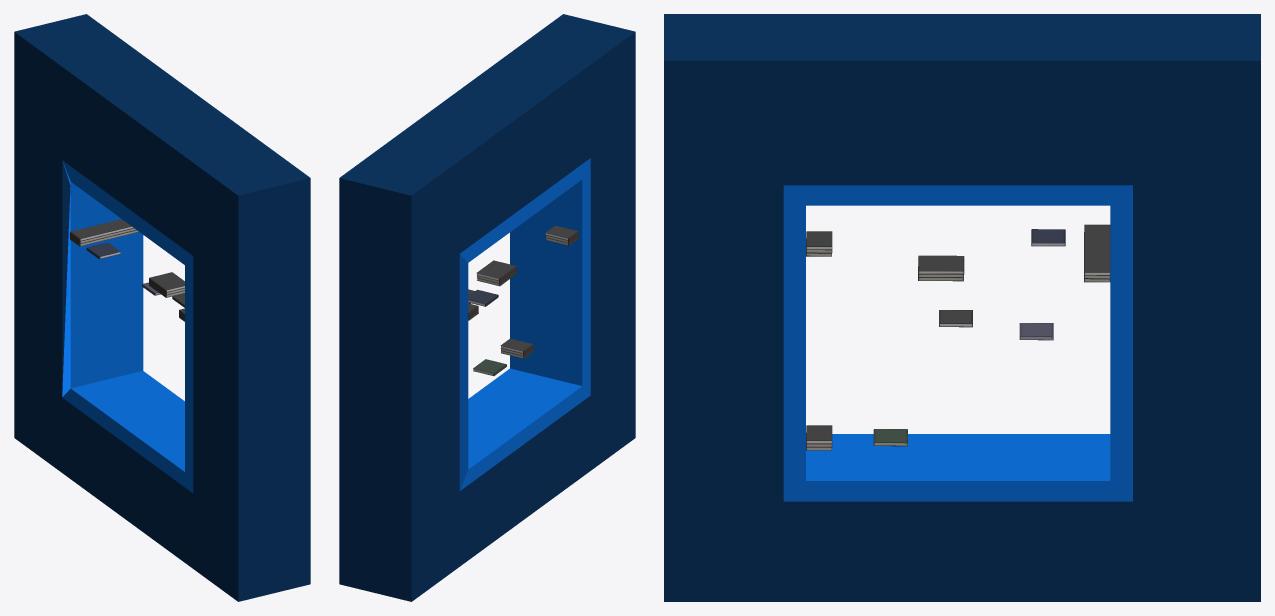
3 views of the same model, side by side, from view 1: azimuth 30°, elevation 25°; view 2: azimuth 150°, elevation 25°; view 3: azimuth 270°, elevation 25° (orthographic). The views are drawn at different scales.
Visible parts, largest first — view 1: paredeTRUETRUE-col.005, PlanoTrue-col.005, livrosSTACK-col.009, livrosSTACK-col.010; view 2: paredeTRUETRUE-col.005, PlanoTrue-col.005, livrosSTACK-col.010, livrosSTACK-col.011, livrosSTACK-col.008; view 3: paredeTRUETRUE-col.005, PlanoTrue-col.005, livrosSTACK-col.009, livrosSTACK-col.010.
Part boxes in pixels (box(x1,y1,x2,y2)): paredeTRUETRUE-col.005: box(14, 14, 310, 601); PlanoTrue-col.005: box(62, 160, 193, 492); livrosSTACK-col.009: box(70, 219, 138, 246); livrosSTACK-col.010: box(149, 272, 184, 297); paredeTRUETRUE-col.005: box(339, 14, 635, 601); PlanoTrue-col.005: box(459, 158, 590, 490); livrosSTACK-col.010: box(476, 260, 516, 286); livrosSTACK-col.011: box(545, 225, 578, 245); livrosSTACK-col.008: box(500, 338, 533, 358); paredeTRUETRUE-col.005: box(664, 14, 1260, 601); PlanoTrue-col.005: box(783, 185, 1132, 501); livrosSTACK-col.009: box(1084, 224, 1110, 282); livrosSTACK-col.010: box(918, 255, 964, 281).
Size of the model in its own units: 96.06 by 509 by 509.
Materials: 19 (16 with a texture image).
